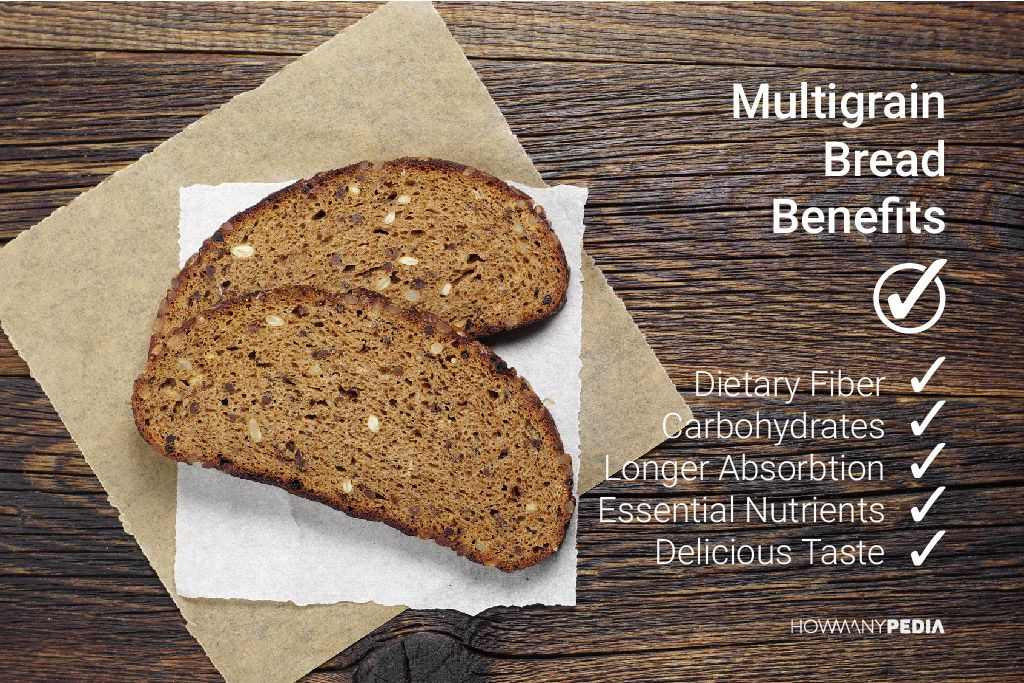slice of bread: (125, 298, 581, 580), (130, 140, 598, 382)
